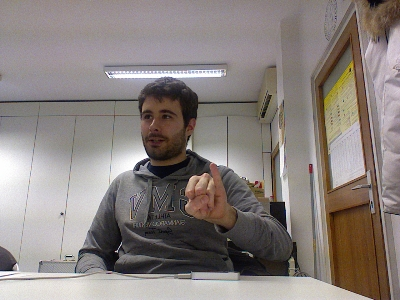小指: (184, 162, 227, 222)
